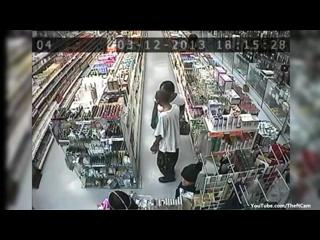Normal: (150, 90, 181, 182)
